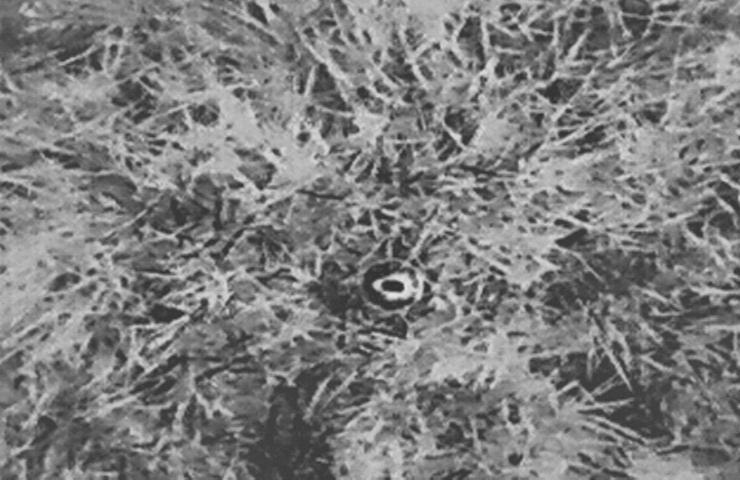landmines: (354, 251, 430, 319)
